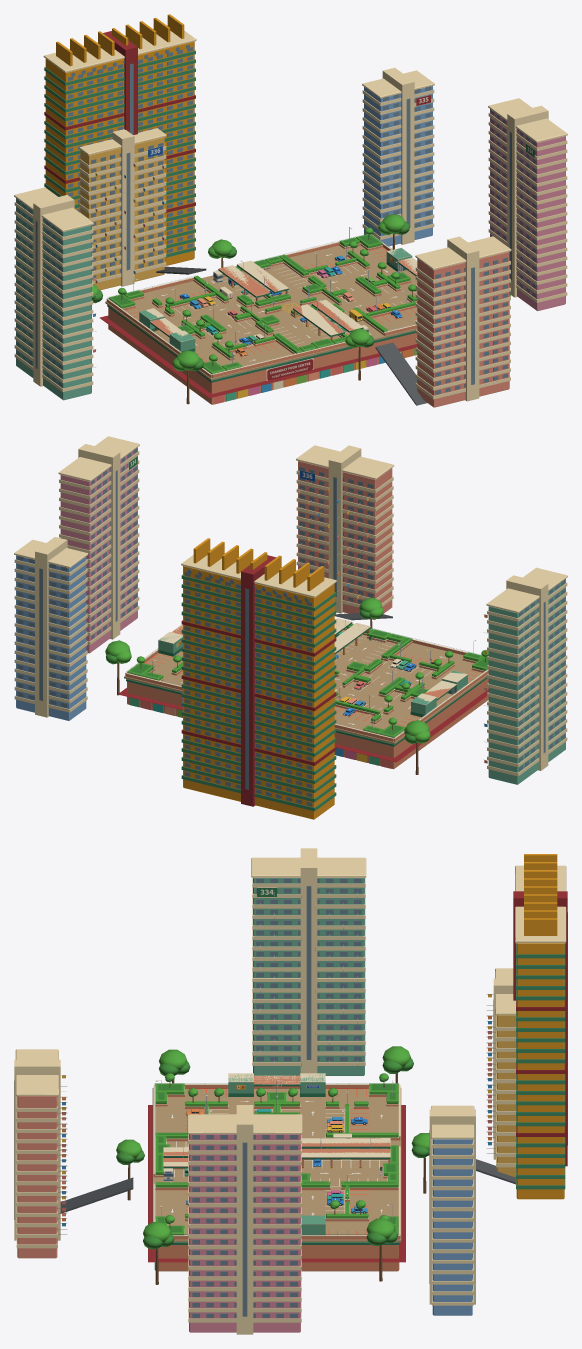
The model's file is carpark.glb.
3 renders of one model, top to bottom at view 1: azimuth 30°, elevation 25°; view 2: azimuth 150°, elevation 25°; view 3: azimuth 270°, elevation 25°, orthographic. The views are drawn at different scales.
Visible parts, largest first — view 1: map_o_cap, map_o_glass, map_floor, map_o_ochre, map_cream, map_leaf, map_c_6fb39a, map_c_e58f7a, map_c_dd8fa3, map_o_green, map_c_e6b455, map_c_7aa6d0 (+10 smaller); view 2: map_o_cap, map_o_ochre, map_o_glass, map_o_green, map_floor, map_c_6fb39a, map_c_e58f7a, map_c_dd8fa3, map_c_7aa6d0, map_cream, map_o_maroon, map_leaf (+6 smaller); view 3: map_o_cap, map_o_glass, map_floor, map_o_ochre, map_c_dd8fa3, map_c_6fb39a, map_leaf, map_cream, map_c_7aa6d0, map_o_green, map_c_e58f7a, map_cap (+9 smaller).
Part boxes in pixels (x1=…): map_o_cap: x1=14, y1=25, x2=567, y2=401; map_o_glass: x1=16, y1=44, x2=535, y2=394; map_floor: x1=105, y1=245, x2=417, y2=380; map_o_ochre: x1=45, y1=14, x2=194, y2=265; map_cream: x1=106, y1=242, x2=417, y2=404; map_leaf: x1=92, y1=214, x2=416, y2=374; map_c_6fb39a: x1=16, y1=198, x2=91, y2=400; map_c_e58f7a: x1=417, y1=251, x2=509, y2=407; map_c_dd8fa3: x1=490, y1=109, x2=565, y2=311; map_o_green: x1=44, y1=50, x2=195, y2=257; map_c_e6b455: x1=80, y1=137, x2=164, y2=290; map_c_7aa6d0: x1=364, y1=86, x2=432, y2=246; map_o_cap: x1=14, y1=436, x2=567, y2=776; map_o_ochre: x1=183, y1=538, x2=334, y2=819; map_o_glass: x1=18, y1=448, x2=565, y2=806; map_o_green: x1=181, y1=575, x2=336, y2=811; map_floor: x1=124, y1=630, x2=488, y2=744; map_c_6fb39a: x1=488, y1=579, x2=565, y2=784; map_c_e58f7a: x1=298, y1=461, x2=392, y2=619; map_c_dd8fa3: x1=60, y1=447, x2=137, y2=653; map_c_7aa6d0: x1=16, y1=555, x2=86, y2=720; map_cream: x1=125, y1=623, x2=488, y2=769; map_o_maroon: x1=181, y1=555, x2=336, y2=806; map_leaf: x1=106, y1=597, x2=488, y2=743; map_o_cap: x1=14, y1=848, x2=566, y2=1334; map_o_glass: x1=14, y1=878, x2=567, y2=1317; map_floor: x1=152, y1=1087, x2=401, y2=1242; map_o_ochre: x1=516, y1=854, x2=564, y2=1199; map_c_dd8fa3: x1=189, y1=1134, x2=300, y2=1332; map_c_6fb39a: x1=253, y1=878, x2=364, y2=1075; map_leaf: x1=116, y1=1046, x2=429, y2=1242; map_cream: x1=153, y1=1075, x2=400, y2=1271; map_c_7aa6d0: x1=432, y1=1139, x2=472, y2=1315; map_o_green: x1=516, y1=943, x2=565, y2=1189; map_c_e58f7a: x1=17, y1=1096, x2=57, y2=1258; map_cap: x1=153, y1=887, x2=431, y2=1236.
Size of what is drawn, in the model's own units: 164 by 76.7 by 139.
Materials: 50 (1 with a texture image).
